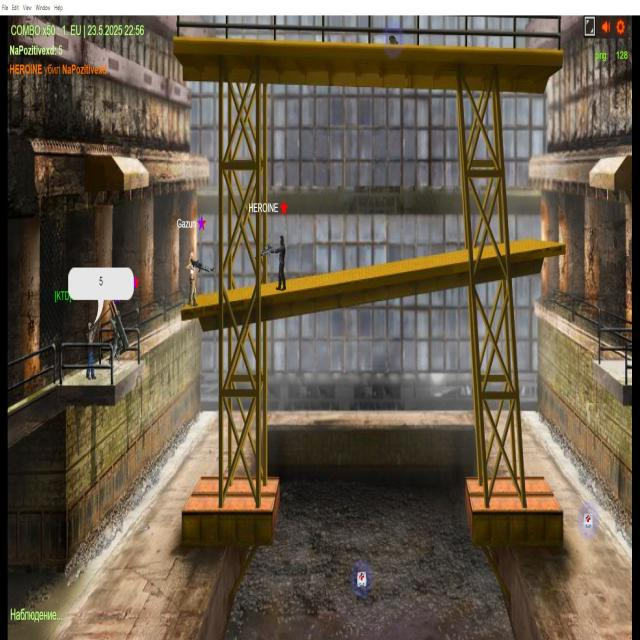enemy: (108, 300, 128, 372), (83, 308, 101, 384), (271, 233, 292, 294), (185, 240, 202, 310)
